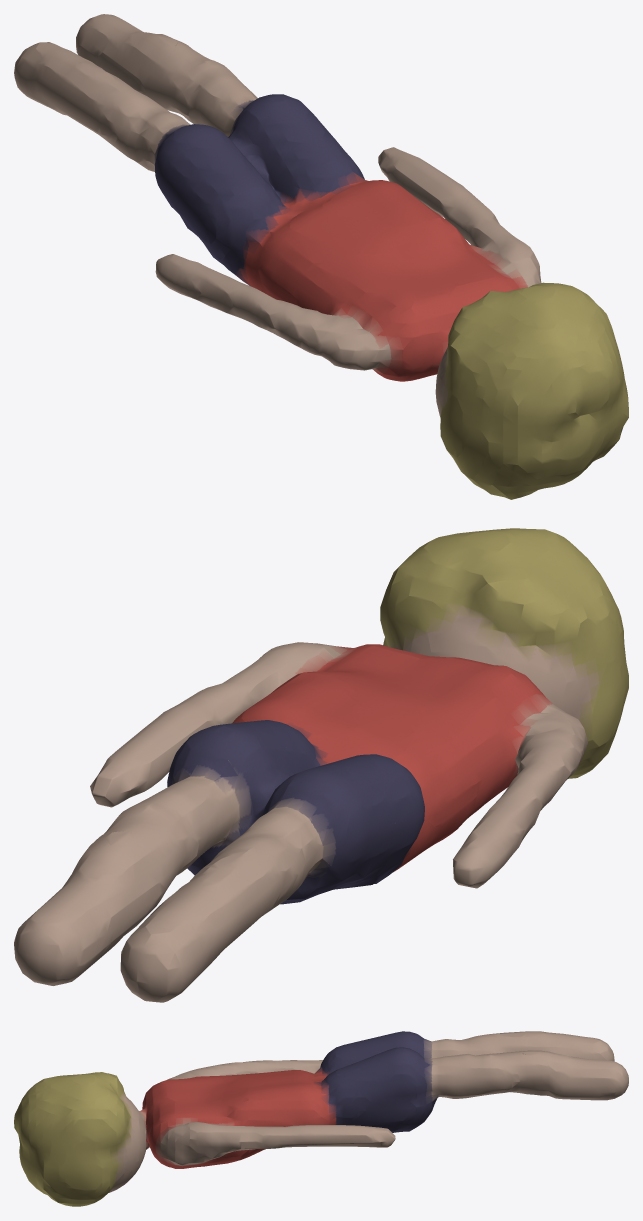
The model's file is rachel-ken.obj.
3 views of the same model, one above another, from view 1: azimuth 30°, elevation 25°; view 2: azimuth 150°, elevation 25°; view 3: azimuth 270°, elevation 25° (orthographic). The views are drawn at different scales.
Parts seen in each view (by area): view 1: Layer_1; view 2: Layer_1; view 3: Layer_1.
Boxes of the visible parts, x1,y1,x2,y2 form: Layer_1: (14,14,628,499); Layer_1: (14,528,628,1002); Layer_1: (14,1031,628,1206).
Size of the model in its own units: 22.75 by 16.12 by 63.01.
Materials: 1 (1 with a texture image).
